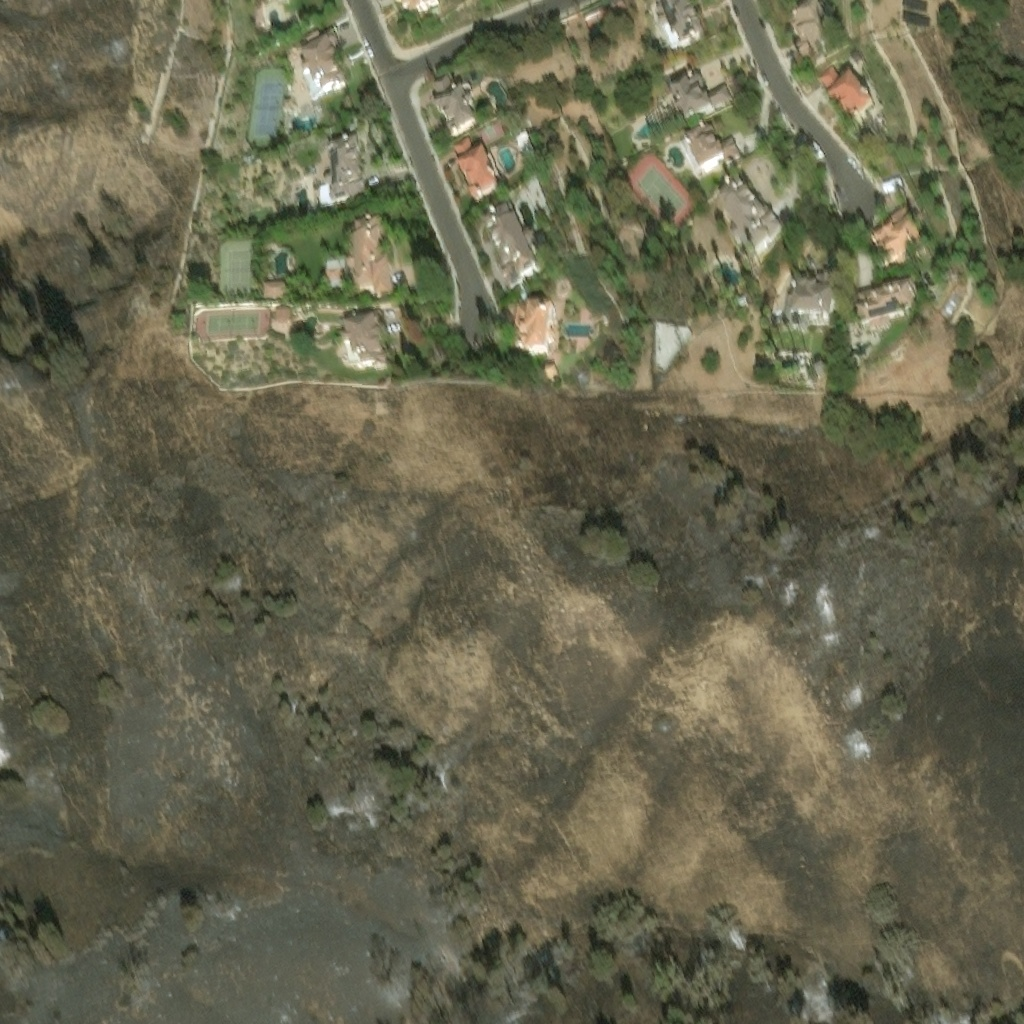0 no-damage: (722, 188, 786, 262), (819, 74, 879, 135), (871, 212, 928, 275), (787, 12, 844, 73), (669, 72, 734, 122), (348, 216, 391, 291), (685, 128, 746, 180), (485, 217, 536, 275), (291, 19, 343, 75), (322, 126, 364, 190), (656, 0, 708, 49), (433, 86, 481, 139), (855, 287, 917, 328), (458, 156, 504, 211), (780, 276, 835, 322), (341, 309, 382, 366), (509, 303, 556, 352), (260, 268, 286, 291), (430, 72, 453, 95), (453, 143, 476, 165), (273, 301, 289, 323), (400, 0, 435, 9), (905, 20, 930, 31), (541, 365, 558, 380), (814, 272, 832, 285), (813, 361, 827, 377), (298, 9, 315, 22), (324, 257, 338, 271), (906, 6, 927, 15)
